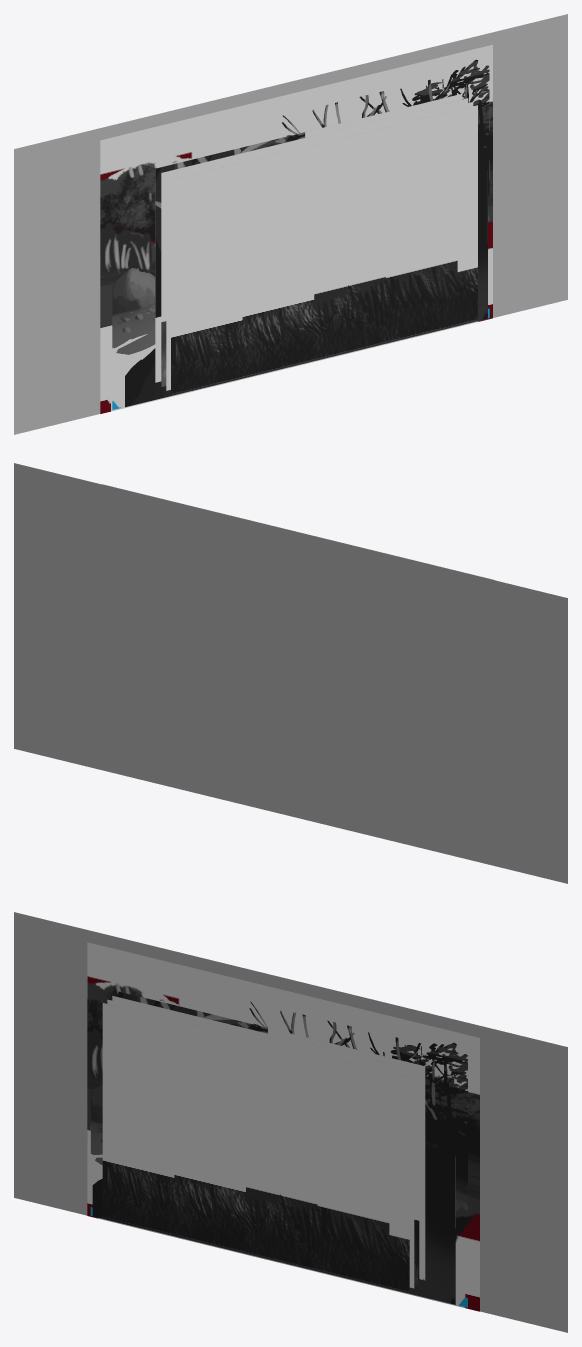
File: page21_01_A.fbx
3 renders of one model, top to bottom at view 1: azimuth 30°, elevation 25°; view 2: azimuth 150°, elevation 25°; view 3: azimuth 330°, elevation 25°, orthographic.
Parts seen in each view (by area): view 1: fgnear, background, bgfar, bgmid, bgnear, fgfar, fgmid, harry; view 2: background; view 3: fgnear, background, bgfar, bgnear, bgmid, fgfar, fgmid, harry.
Part boxes in pixels (<box>): fgnear: <box>171,105,477,393</box>; background: <box>14,14,567,434</box>; bgfar: <box>100,44,492,413</box>; bgmid: <box>112,59,489,409</box>; bgnear: <box>125,74,487,407</box>; fgfar: <box>155,94,462,382</box>; fgmid: <box>161,98,468,386</box>; harry: <box>166,102,473,390</box>; background: <box>14,463,567,883</box>; fgnear: <box>102,1003,409,1291</box>; background: <box>14,912,567,1332</box>; bgfar: <box>87,942,479,1311</box>; bgnear: <box>92,1001,455,1304</box>; bgmid: <box>90,1042,467,1307</box>; fgfar: <box>118,991,425,1280</box>; fgmid: <box>112,995,419,1284</box>; harry: <box>107,999,414,1288</box>.
Size of the model in its own units: 312 by 154 by 33.33.
